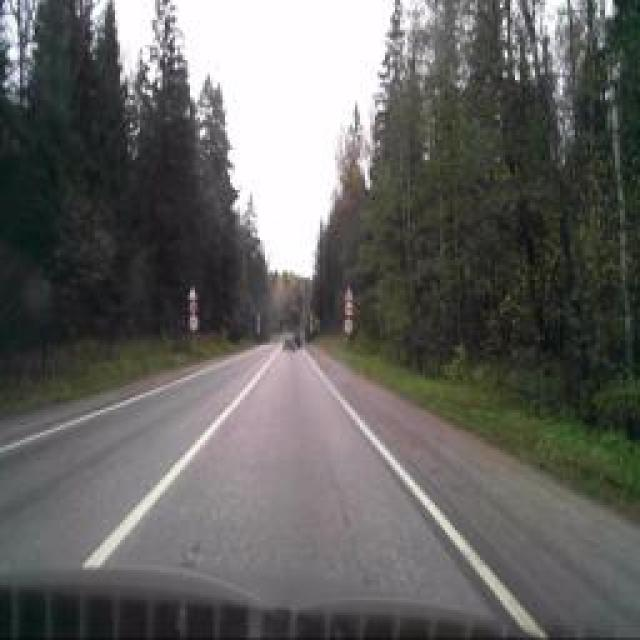sign: (189, 314, 199, 331), (344, 318, 354, 334), (344, 302, 354, 316)
